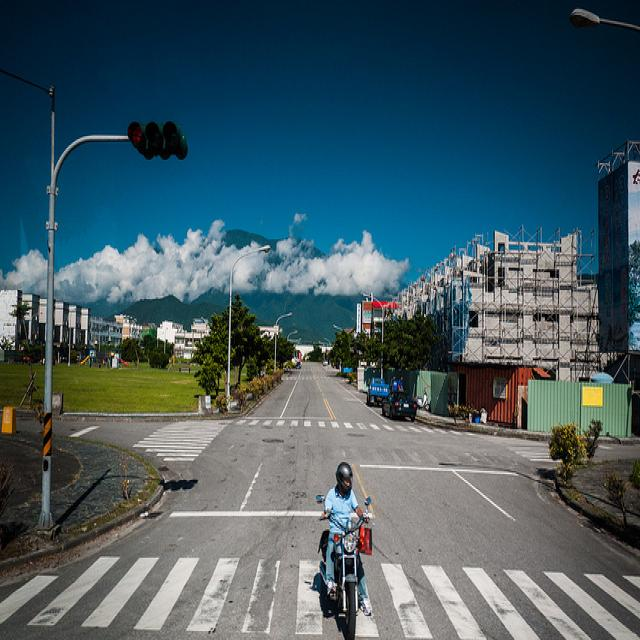motor: (317, 497, 376, 633)
